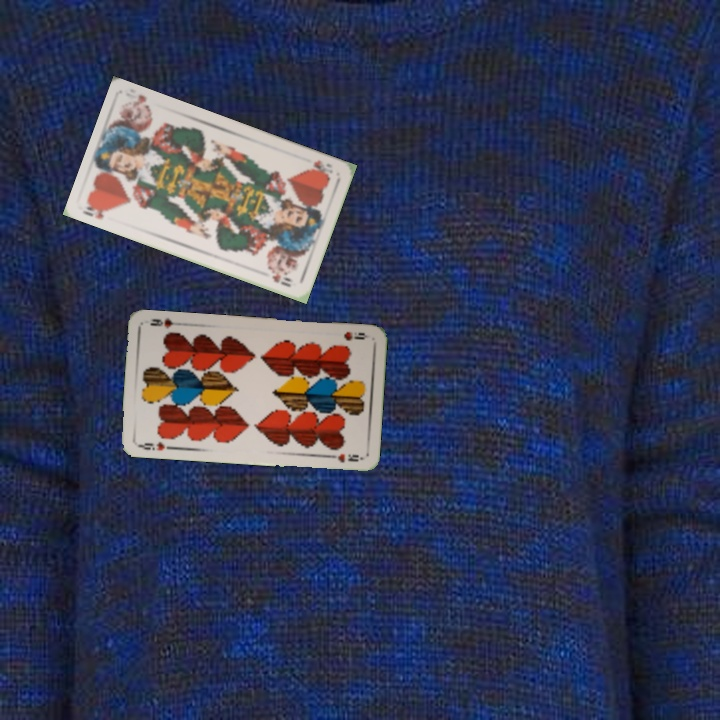H9: (135, 438, 167, 453), (340, 328, 371, 343)
HO: (307, 156, 335, 180), (79, 202, 114, 221)
